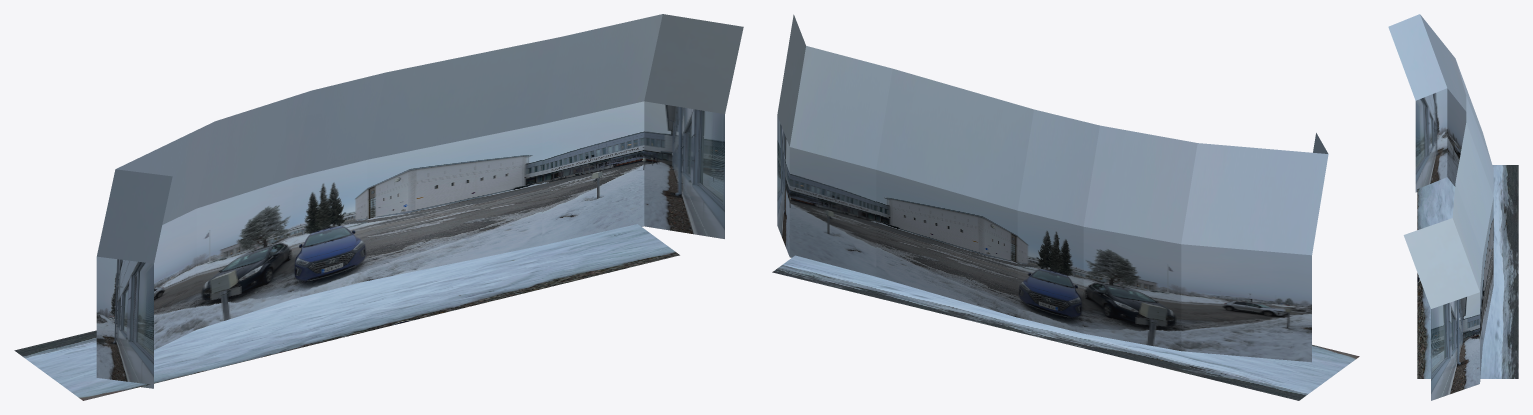
Rendered from MC_PihaKokkipuoli.fbx.
3 views of the same model, side by side, from view 1: azimuth 30°, elevation 25°; view 2: azimuth 150°, elevation 25°; view 3: azimuth 270°, elevation 25° (orthographic). The views are drawn at different scales.
Parts seen in each view (by area): view 1: Plane.008, Plane.009; view 2: Plane.008, Plane.009; view 3: Plane.008, Plane.009.
Part boxes in pixels (left/top/right/bottom): Plane.008: left=96, top=14, right=743, bottom=388; Plane.009: left=14, top=224, right=679, bottom=400; Plane.008: left=777, top=14, right=1328, bottom=362; Plane.009: left=772, top=255, right=1359, bottom=400; Plane.008: left=1388, top=14, right=1493, bottom=400; Plane.009: left=1417, top=165, right=1518, bottom=378.
Bounding box in the file's own units: 1090 × 362 × 258.
